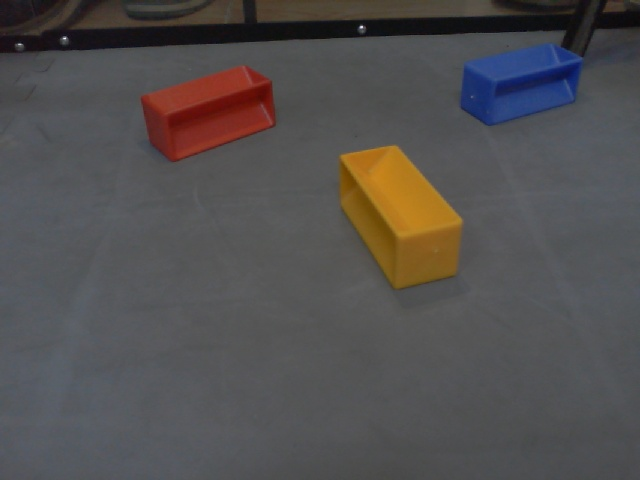BlueSample: (458, 44, 586, 128)
RedSample: (141, 63, 279, 163)
YellowSample: (336, 143, 464, 296)
